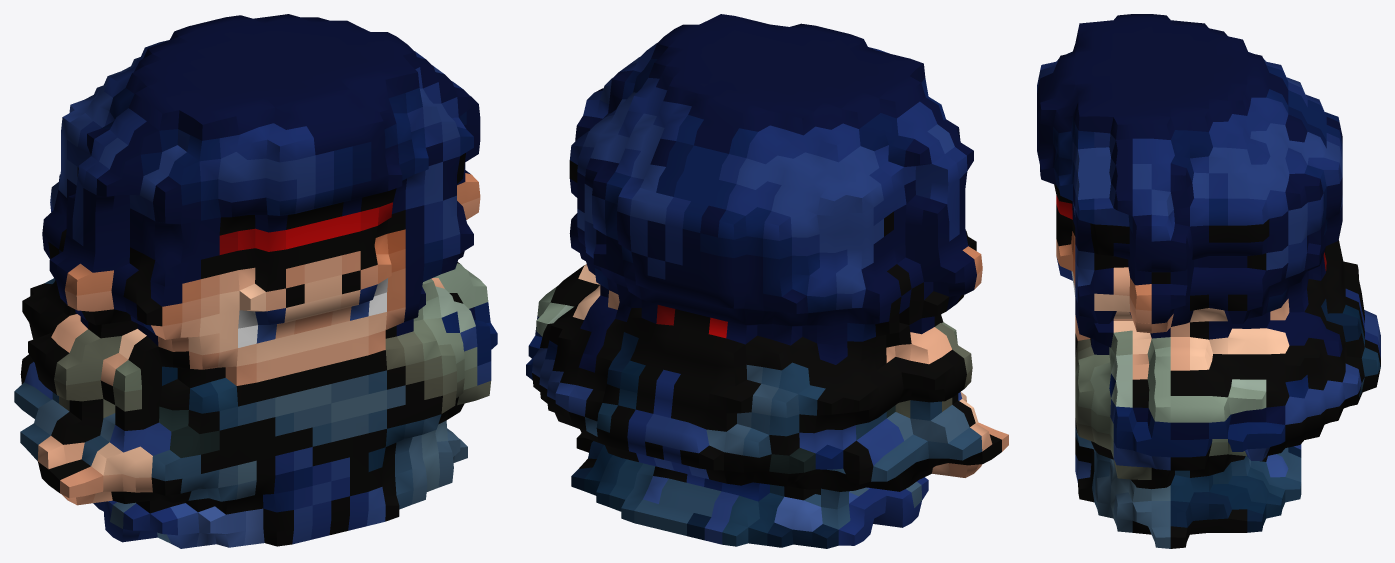
File: Icon_201_02.obj
The picture shows the model from 3 angles, left to right: view 1: azimuth 30°, elevation 25°; view 2: azimuth 150°, elevation 25°; view 3: azimuth 270°, elevation 25°; orthographic projection. The views are drawn at different scales.
Bounding box in the file's own units: 2.39 × 2.3 × 1.8.
Materials: 1 (1 with a texture image).
